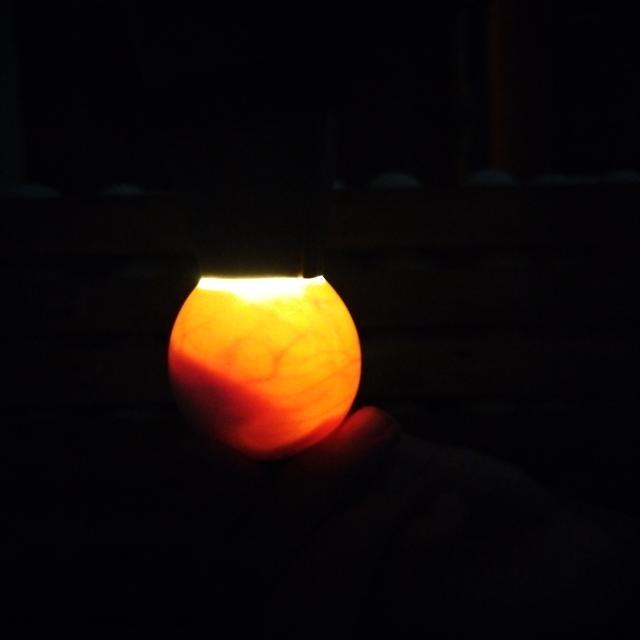Embriao: (169, 344, 342, 458)
